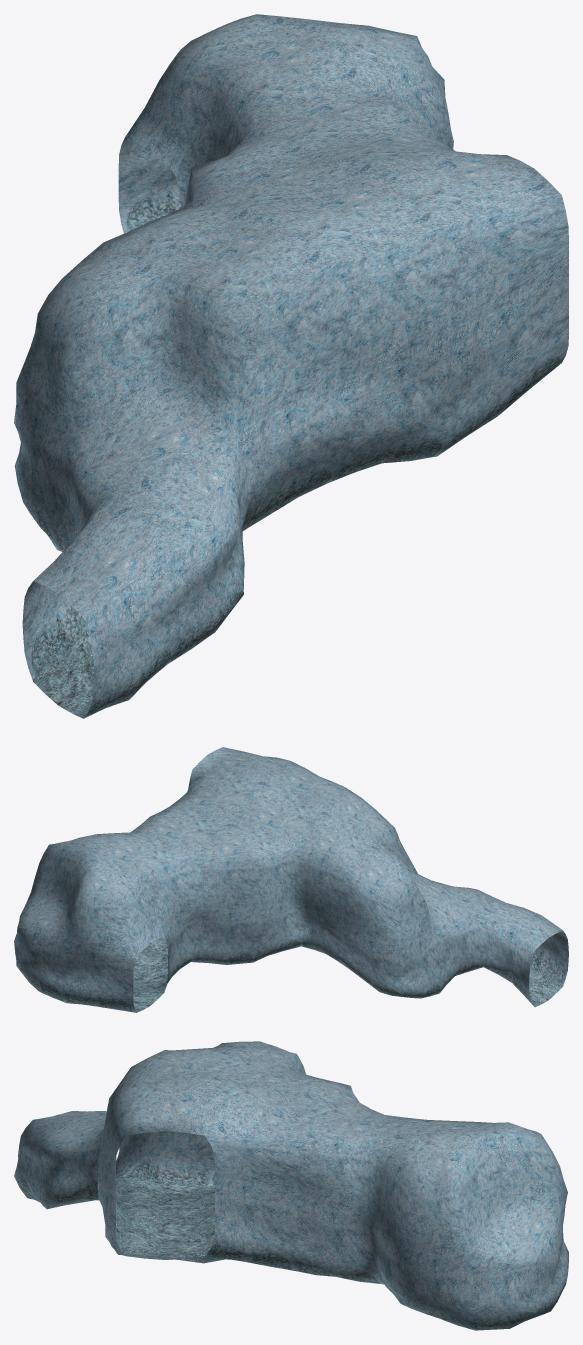
Rendered from thm_all_cave_flatland_s03_ice_r2_r2.fbx.
3 renders of one model, top to bottom at view 1: azimuth 30°, elevation 25°; view 2: azimuth 150°, elevation 25°; view 3: azimuth 270°, elevation 25°, orthographic. The views are drawn at different scales.
Parts seen in each view (by area): view 1: mesh_node; view 2: mesh_node; view 3: mesh_node.
Boxes of the visible parts, box(x1,y1,x2,y2) form: mesh_node: box(14, 14, 568, 718); mesh_node: box(14, 747, 568, 1012); mesh_node: box(14, 1041, 568, 1330).
Size of the model in its own units: 48.79 by 26.36 by 49.81.
